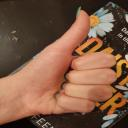ThumbsUp: (24, 6, 118, 122)
